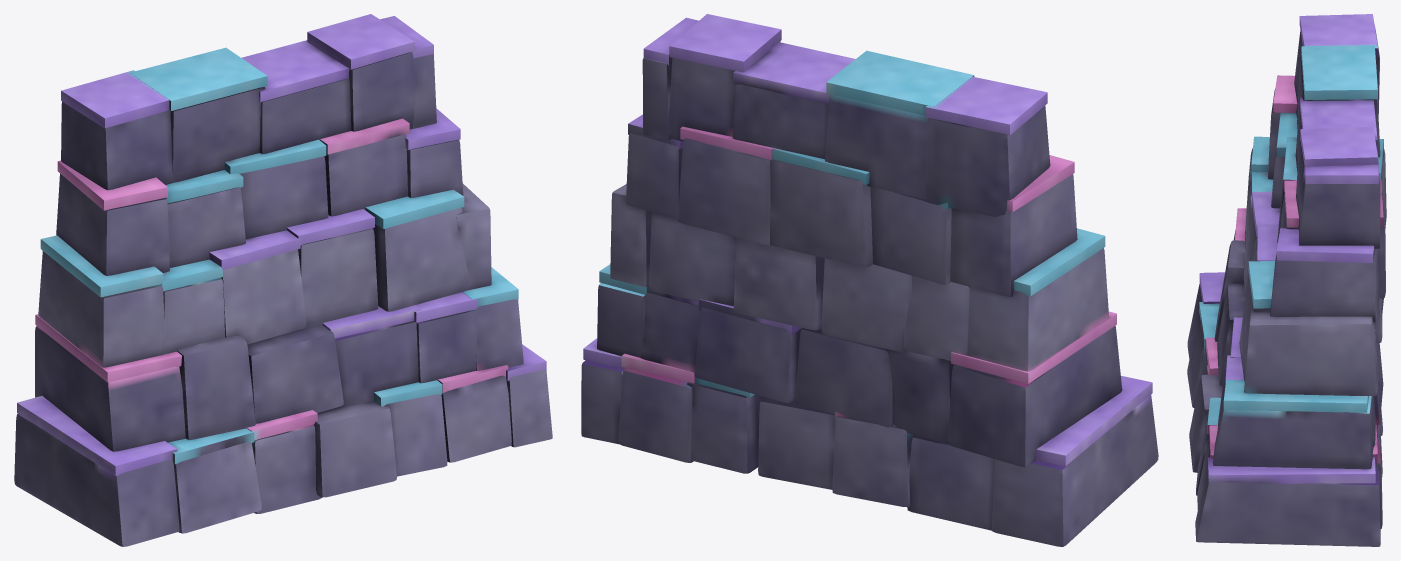
The model's file is Cosmos_Falaise.fbx.
3 views of the same model, side by side, from view 1: azimuth 30°, elevation 25°; view 2: azimuth 150°, elevation 25°; view 3: azimuth 270°, elevation 25° (orthographic). The views are drawn at different scales.
Parts seen in each view (by area): view 1: Cosmos_Falaise; view 2: Cosmos_Falaise; view 3: Cosmos_Falaise.
Boxes of the visible parts, x1,y1,x2,y2 form: Cosmos_Falaise: [14, 14, 552, 546]; Cosmos_Falaise: [581, 14, 1158, 546]; Cosmos_Falaise: [1187, 14, 1386, 546].
Bounding box in the file's own units: 3608 × 2962 × 1503.
1 material, 1 textured.
